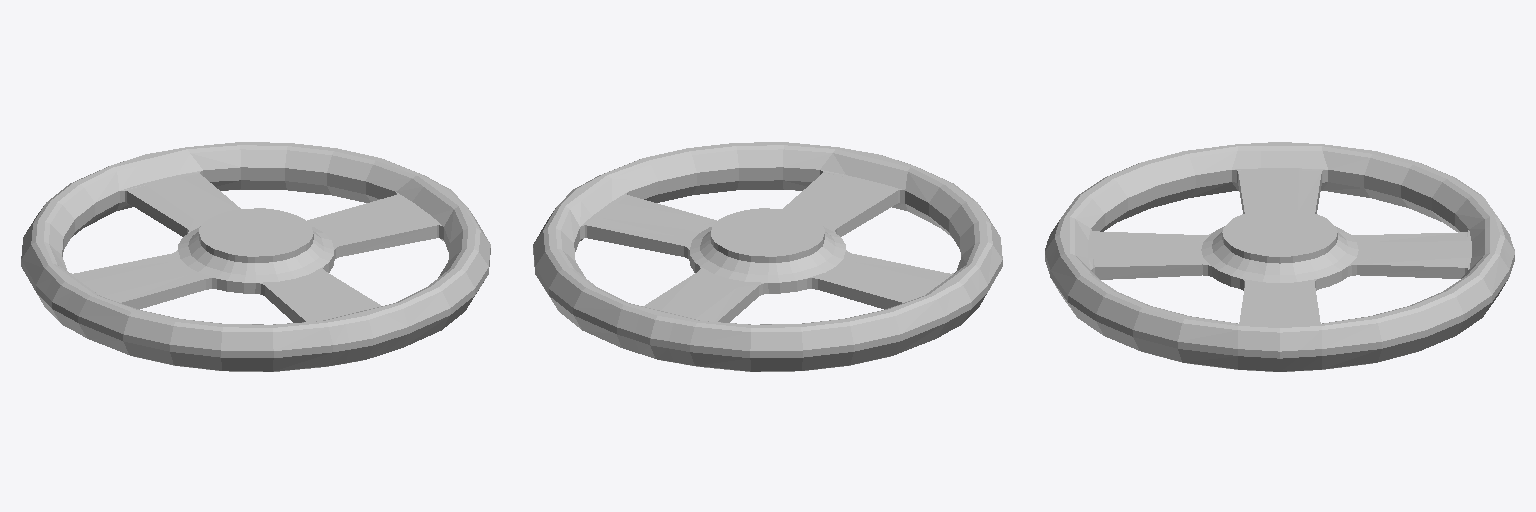
The model's file is VALVE1_001.obj.
3 renders of one model, left to right at view 1: azimuth 30°, elevation 25°; view 2: azimuth 150°, elevation 25°; view 3: azimuth 270°, elevation 25°, orthographic.
Parts seen in each view (by area): view 1: VALVE1.001; view 2: VALVE1.001; view 3: VALVE1.001.
Part boxes in pixels (left/top/right/bottom): VALVE1.001: left=21, top=142, right=490, bottom=371; VALVE1.001: left=533, top=142, right=1002, bottom=371; VALVE1.001: left=1045, top=142, right=1514, bottom=371.
Size of the model in its own units: 1.5 by 0.1642 by 1.5.